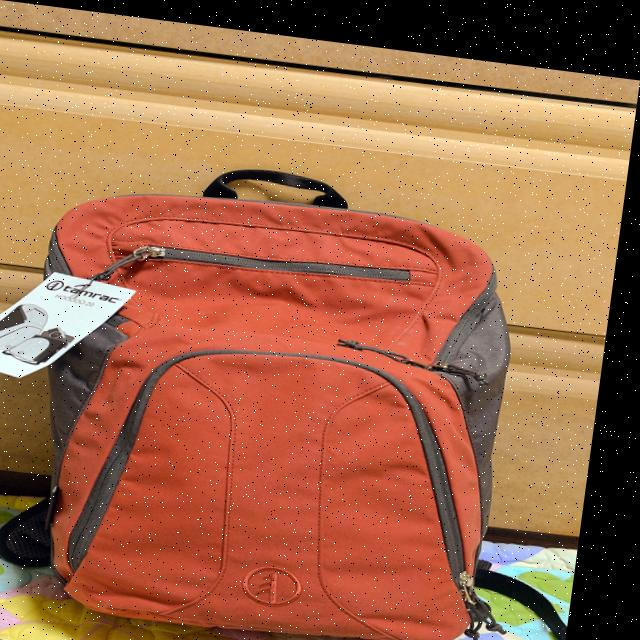backpack: (0, 133, 566, 640)
